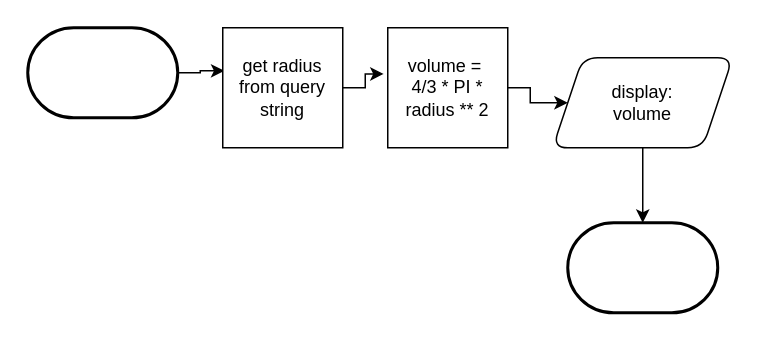
The diagram is 759 pixels wide and 339 high, and some of its shapes have lost their labels. The shapes that lost their labels are listed below. From the top down, each one's centre as x and y in pixels, then its label:
At pixel 102 72: "Start".
At pixel 642 267: "Stop".
